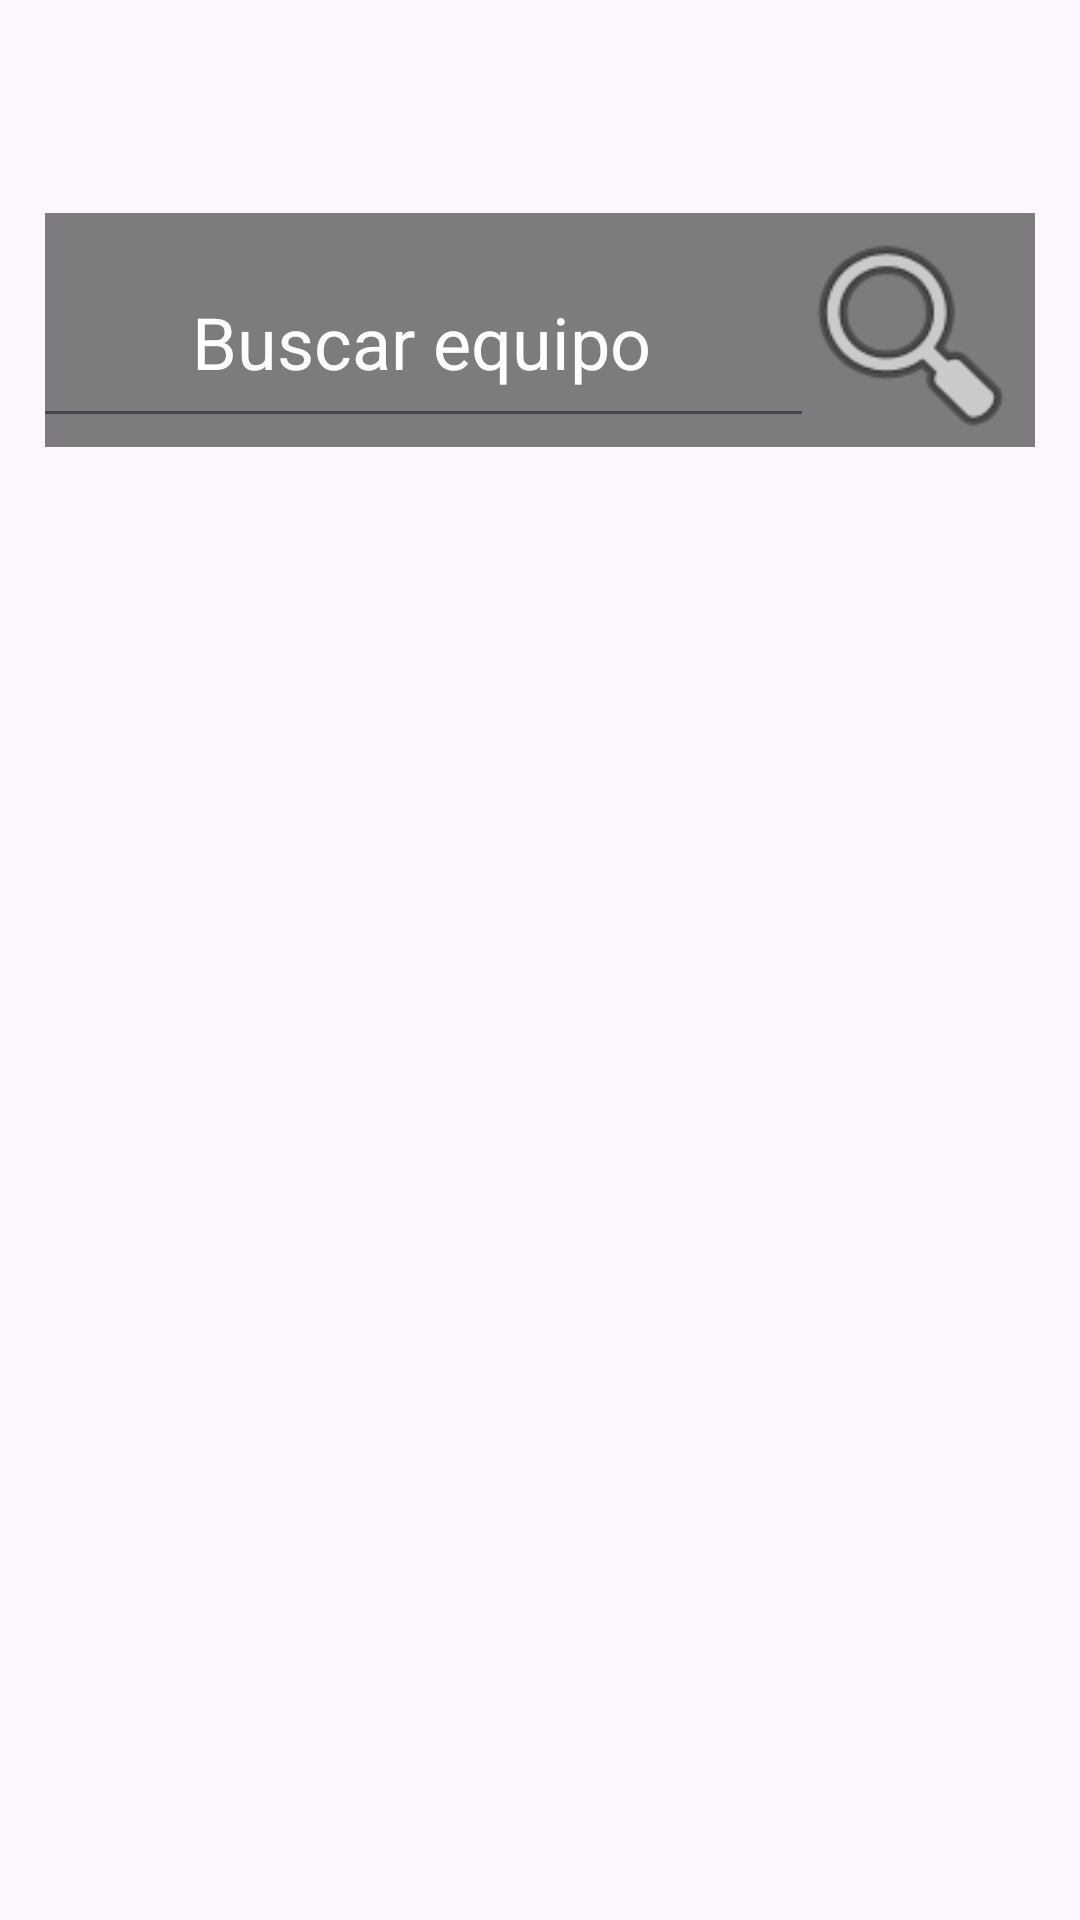

Icon bounding boxes for this 1080 x 1920 phone screenshot, format (x1, y1, x2, y2):
search: (786, 213, 1035, 447)
